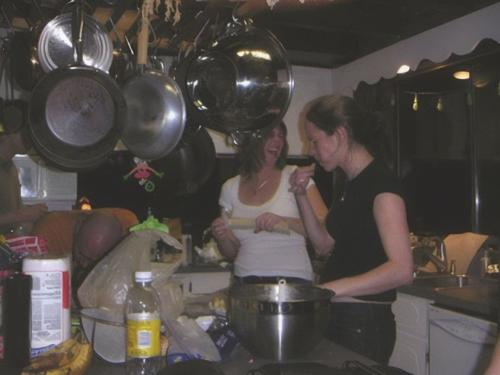bottle: (123, 272, 164, 375)
cat: (2, 274, 31, 372)
person: (288, 96, 415, 369), (213, 120, 330, 285)
person/hand: (290, 165, 320, 196), (255, 210, 283, 236), (214, 217, 229, 242)
person/head: (305, 98, 372, 174), (249, 123, 286, 169)
